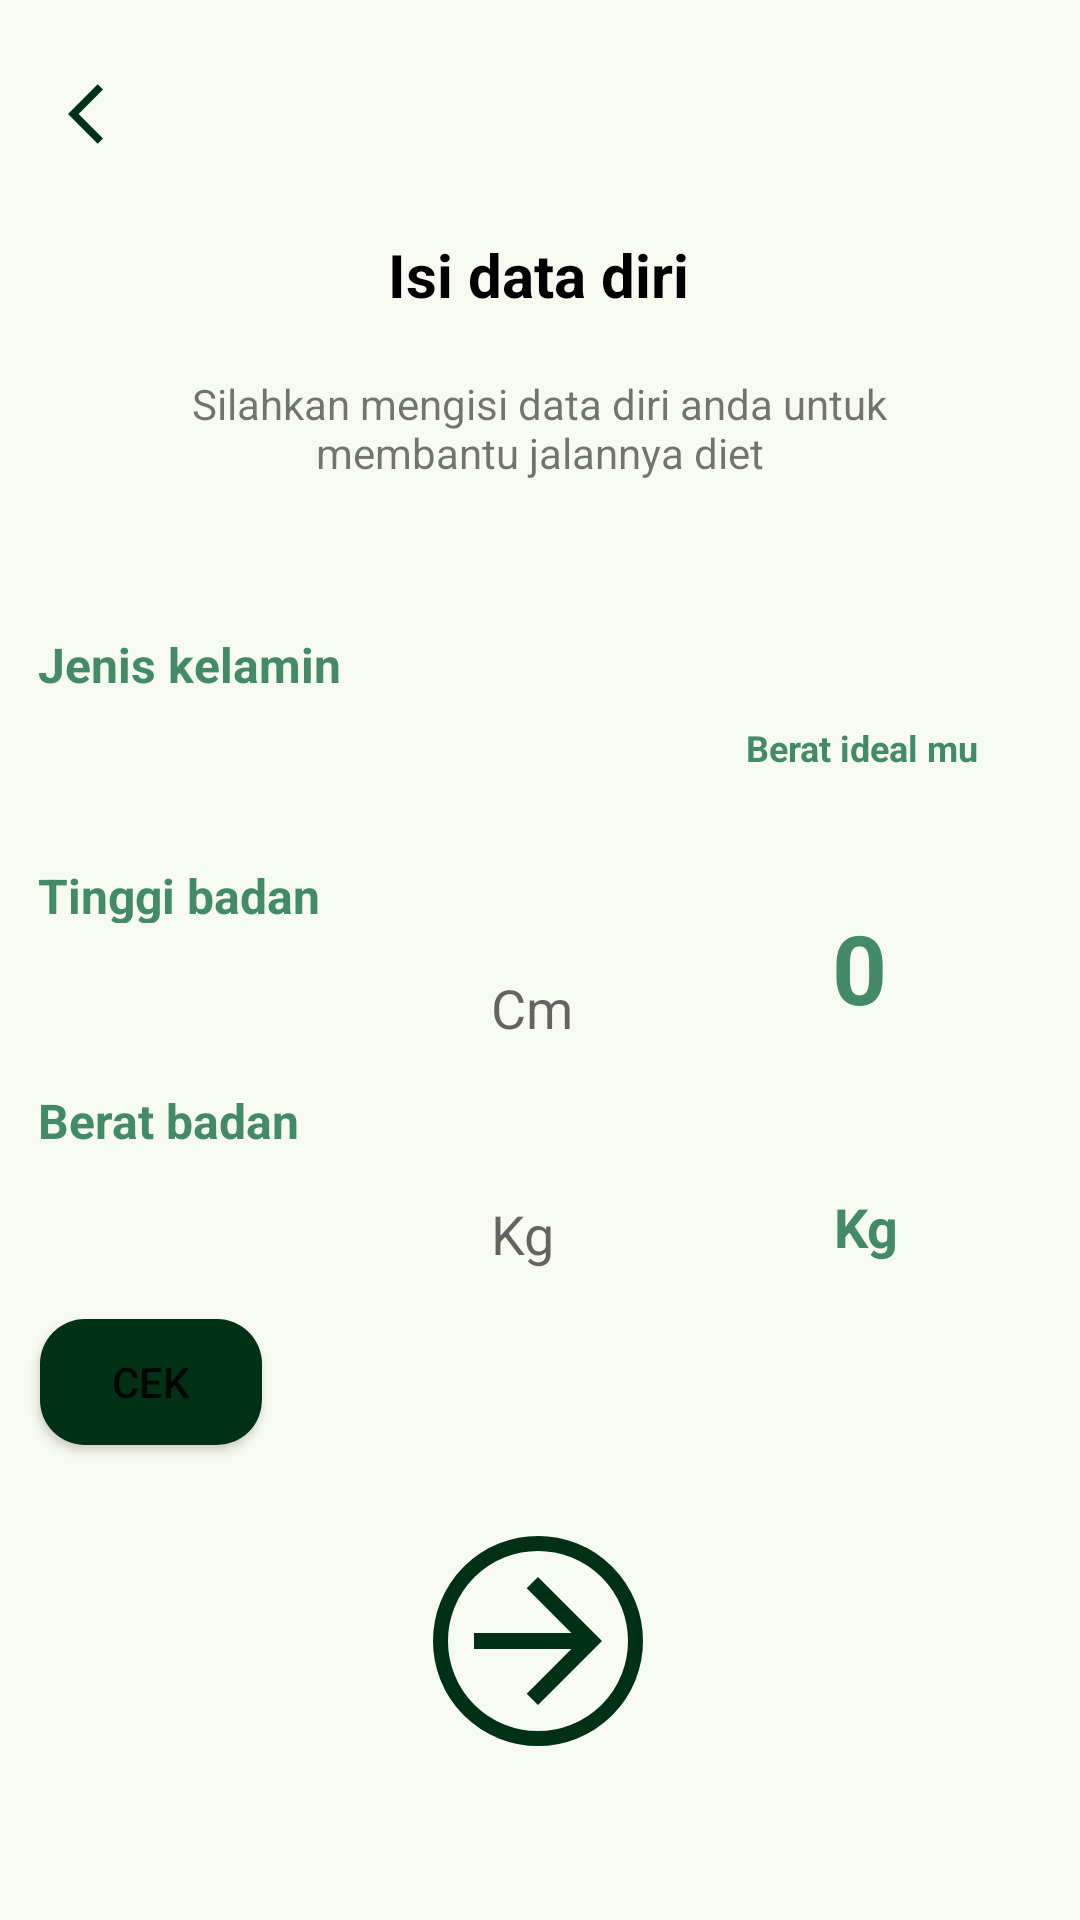

Icons on this 1080px x 1920px Android screen, each with the point to tap as (x,y):
back: (85,114)
forward: (538,1641)
